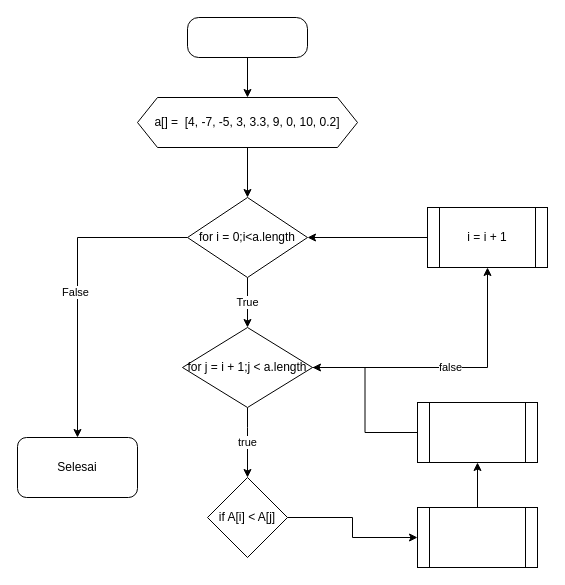
The diagram is 565 pixels wide and 585 high, and some of its shapes have lost their labels. Each missing label, with the centre of its shape:
"j = j + 1" belongs at point (477, 432).
"Start" belongs at point (247, 37).
"Swap A[i] ke A[J]" belongs at point (477, 537).
